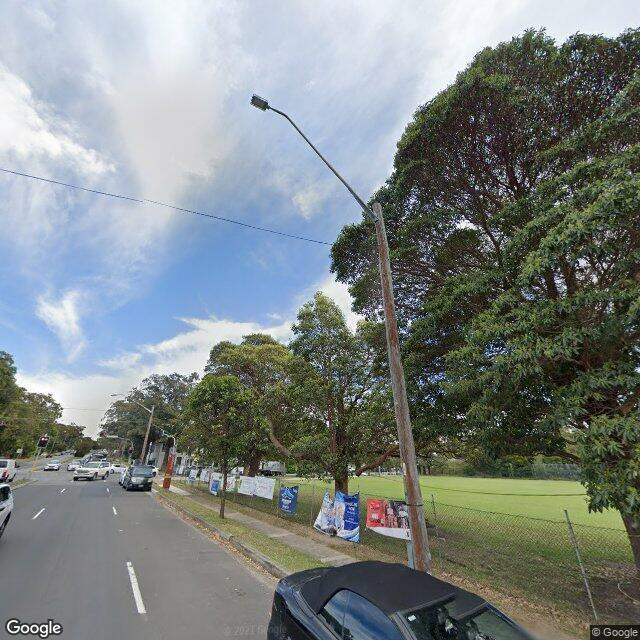streetlight: (252, 94, 377, 222), (110, 393, 152, 412)
timber-pole: (372, 202, 433, 576), (139, 404, 155, 464)
